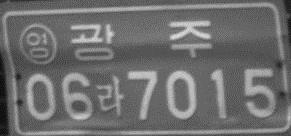0: (165, 69, 198, 120), (25, 73, 57, 122)
1: (202, 68, 235, 119)
5: (243, 67, 276, 119)
6: (61, 71, 93, 121)
7: (126, 69, 158, 120)
광주_D: (69, 20, 213, 61)
라: (95, 73, 124, 115)
영: (18, 22, 57, 65)
